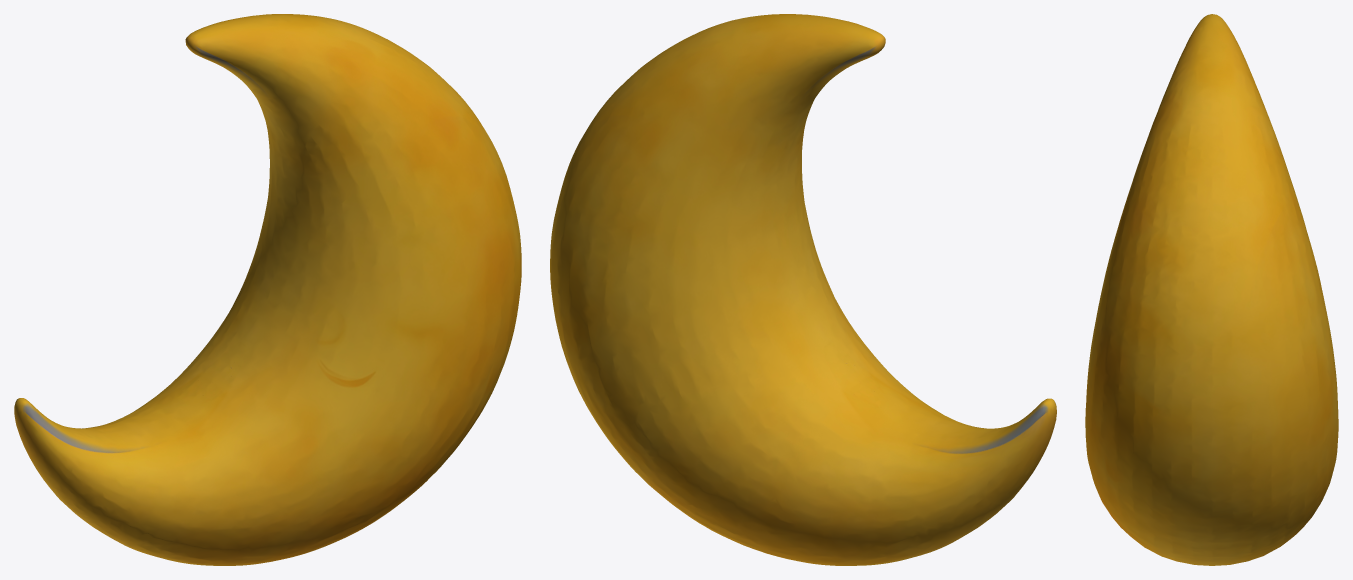
Rendered from moon-storybook.glb.
3 views of the same model, side by side, from view 1: azimuth 30°, elevation 25°; view 2: azimuth 150°, elevation 25°; view 3: azimuth 270°, elevation 25° (orthographic). The views are drawn at different scales.
Parts seen in each view (by area): view 1: tripo_node_7dcedf16-d0ad-4381-8783-c568251961cb; view 2: tripo_node_7dcedf16-d0ad-4381-8783-c568251961cb; view 3: tripo_node_7dcedf16-d0ad-4381-8783-c568251961cb.
Boxes of the visible parts, x1,y1,x2,y2 form: tripo_node_7dcedf16-d0ad-4381-8783-c568251961cb: (14,14,521,565); tripo_node_7dcedf16-d0ad-4381-8783-c568251961cb: (550,14,1056,565); tripo_node_7dcedf16-d0ad-4381-8783-c568251961cb: (1085,14,1338,565).
Size of the model in its own units: 0.9539 by 0.9999 by 0.4581.
Materials: 1 (1 with a texture image).
